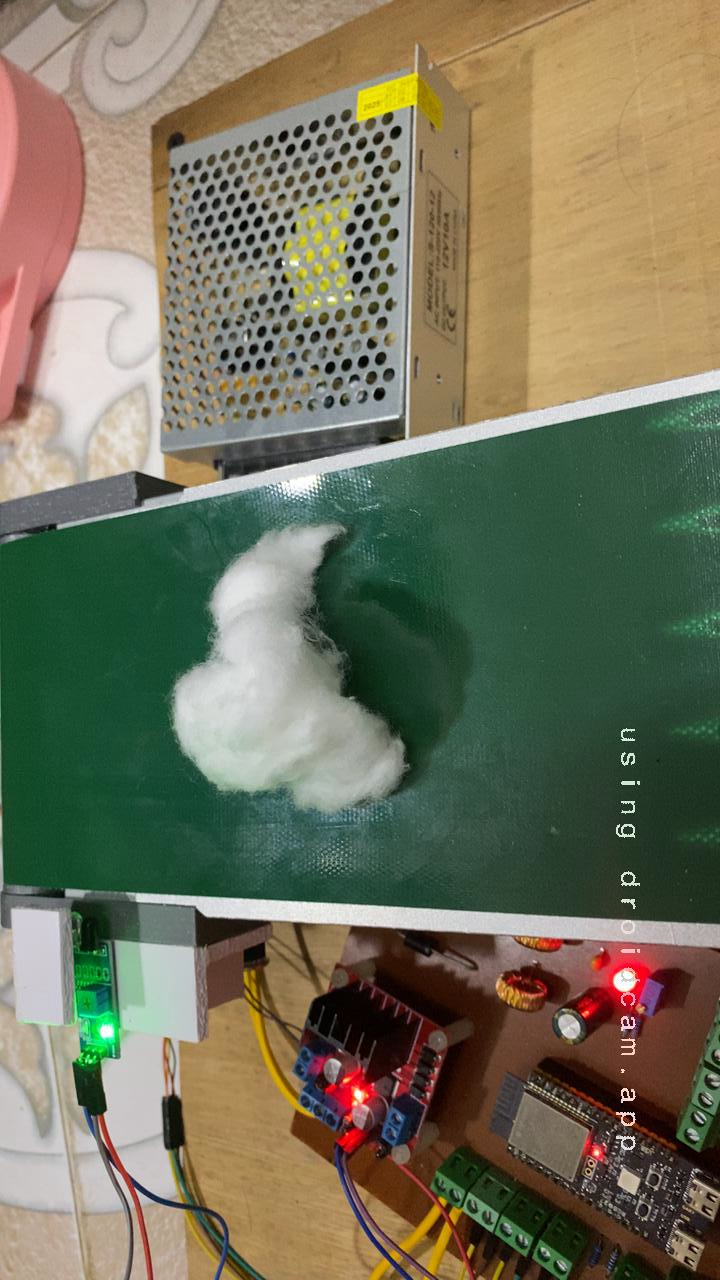cotton: (134, 507, 433, 848)
